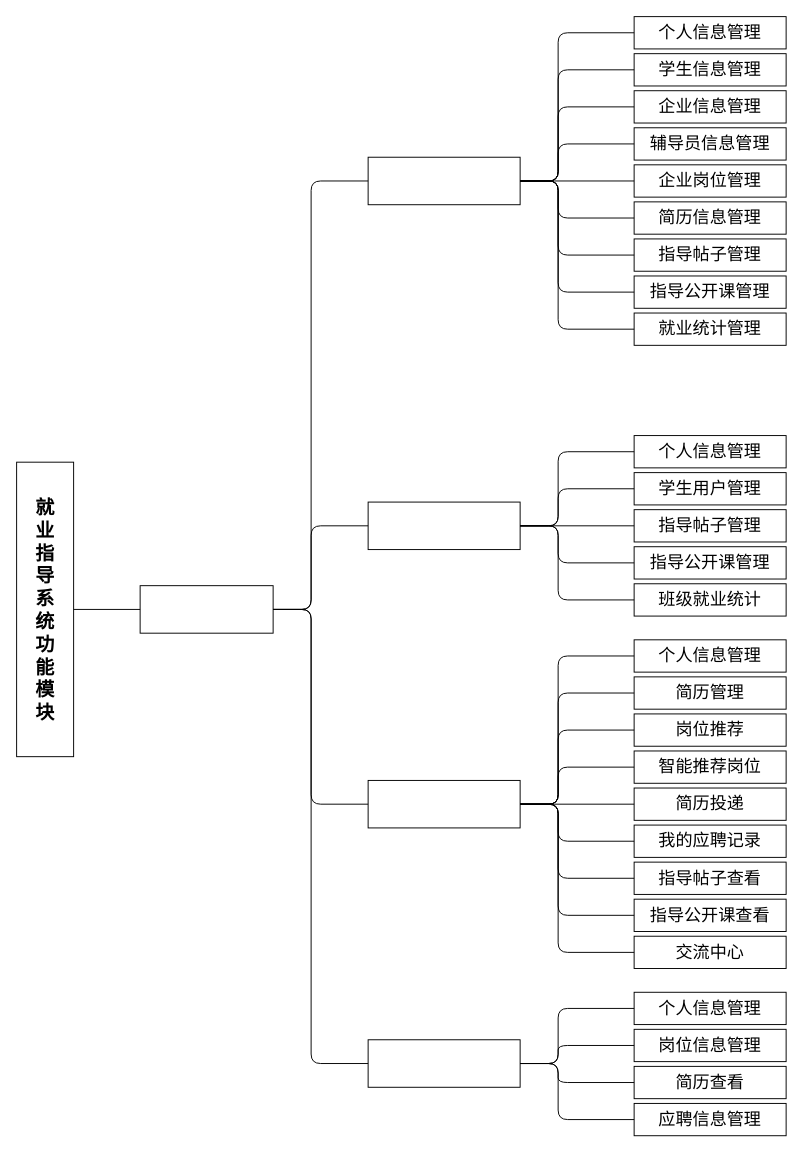
The diagram is 803 pixels wide and 1152 high, and some of its shapes have lost their labels. The shapes that lost their labels are listed below. From the top down, each one's centre as x and y in pixels, then its label:
At pixel 443 180: "管理员模块".
At pixel 443 525: "辅导员模块".
At pixel 206 609: "用户登录".
At pixel 443 803: "学生模块".
At pixel 443 1063: "企业模块".
